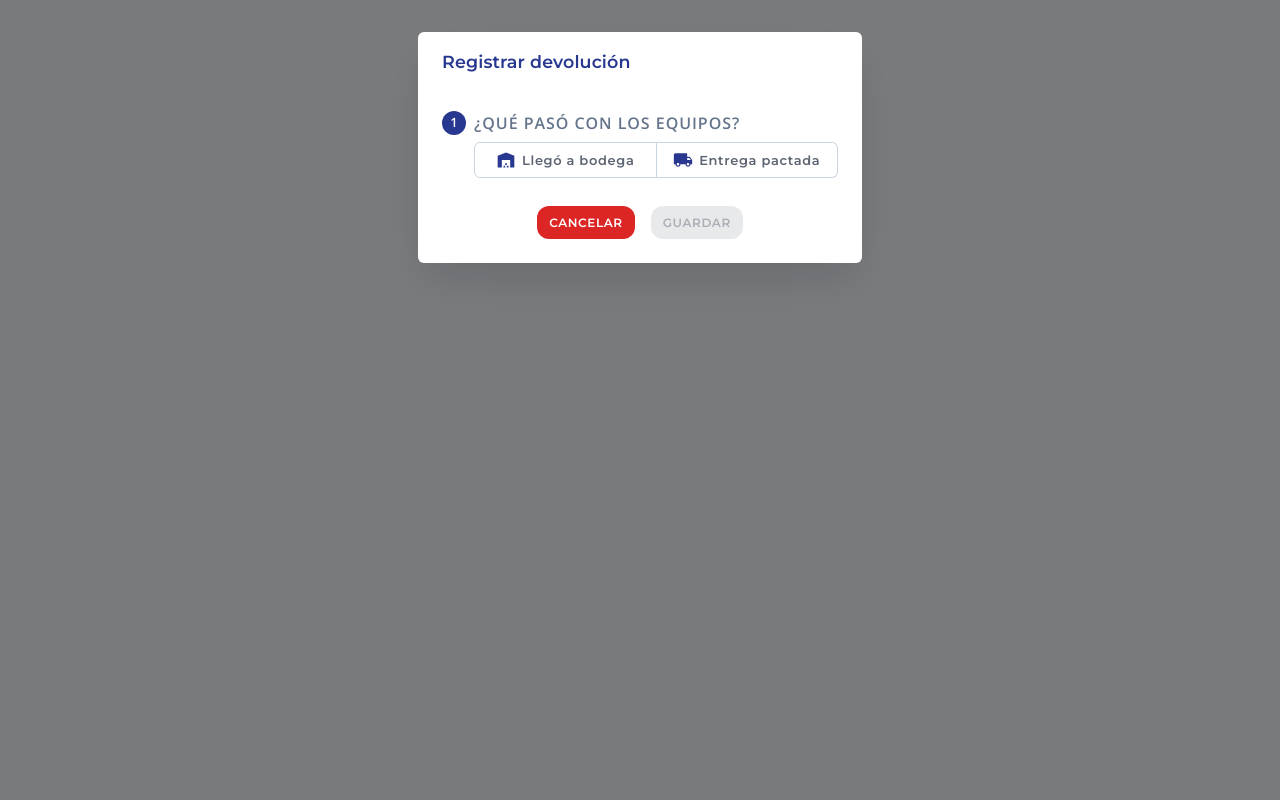
Test: RegistrarDevolucionDialog — antes de guardar › sin cantidad no registra nada
This screenshot has width=1280, height=800.
Click the button "Llegó a bodega". click: {"x": 565, "y": 160}
box: x1=474 y1=142 x2=656 y2=178
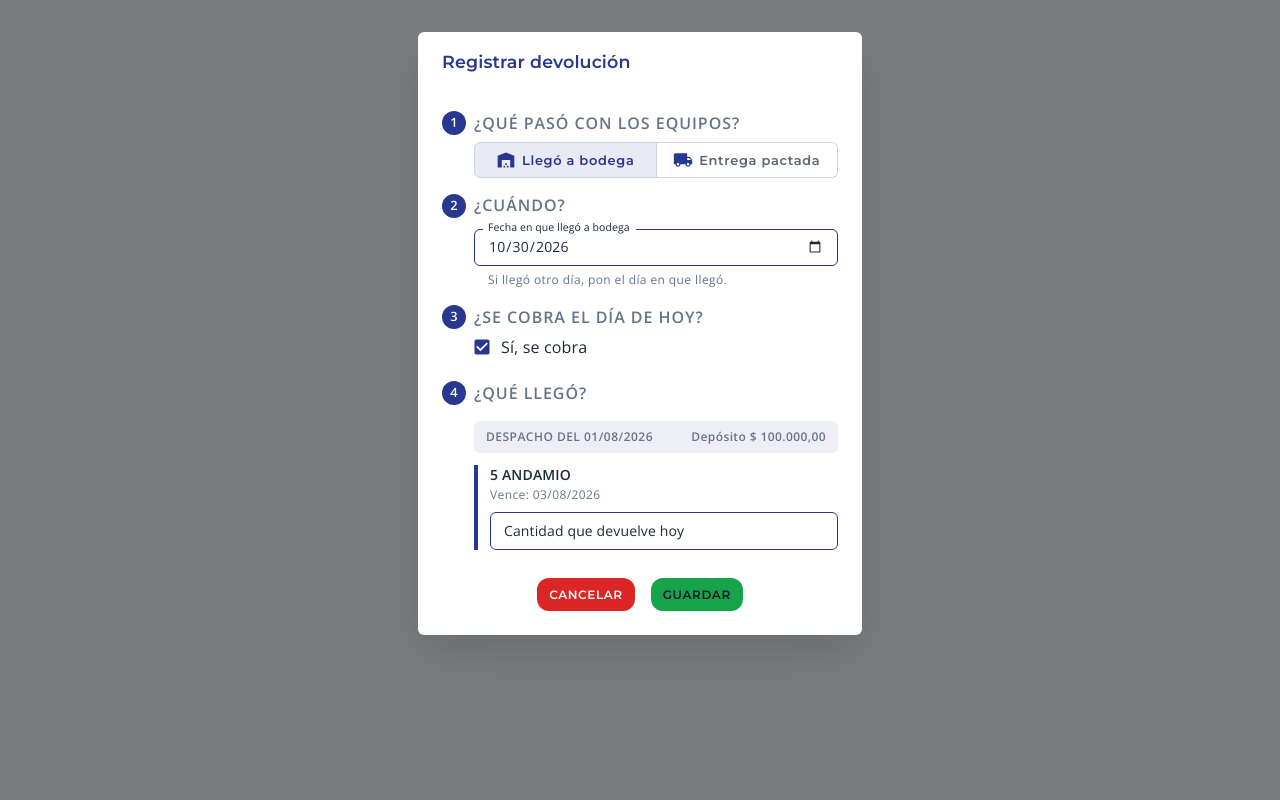
Click the button "Guardar". click: {"x": 697, "y": 594}
box: x1=651 y1=578 x2=743 y2=610
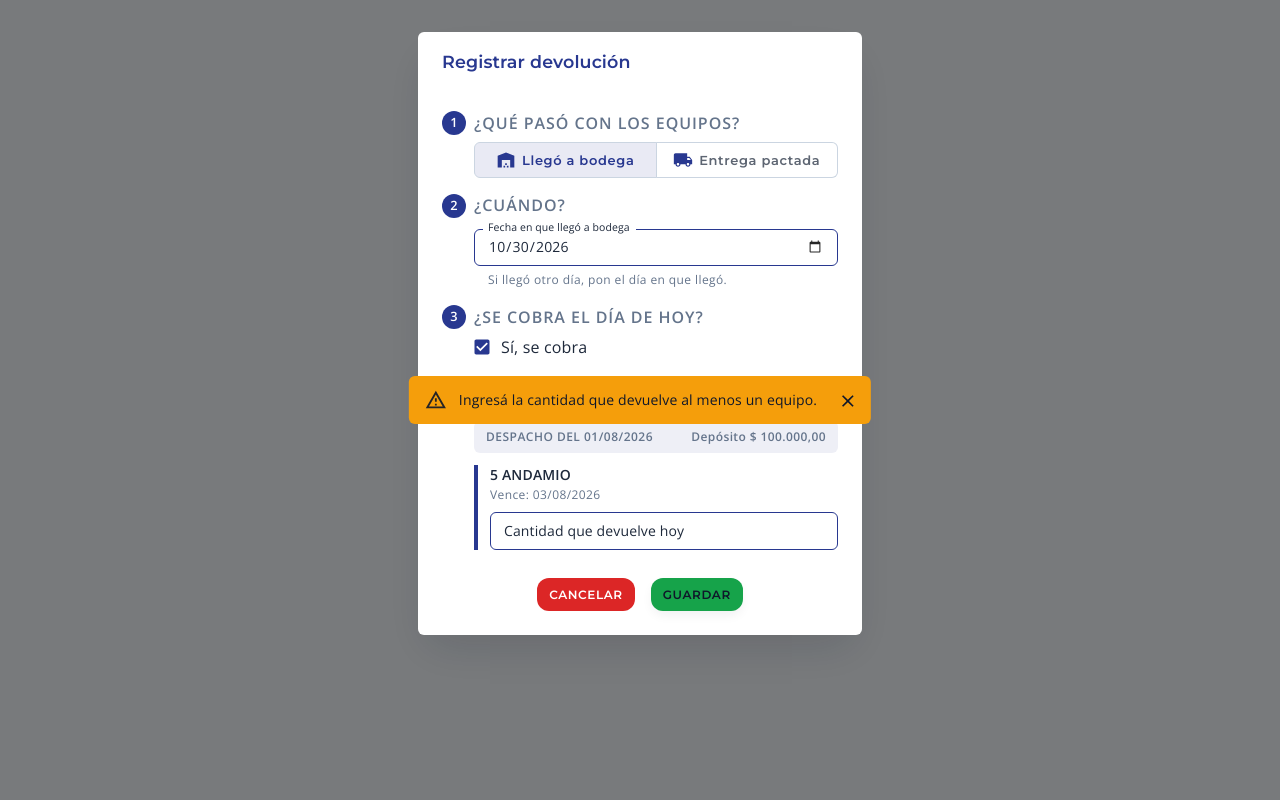
Now the text "Ingresá la cantidad que devuelve al menos un equipo." is shown, box x1=459 y1=390 x2=817 y2=409
